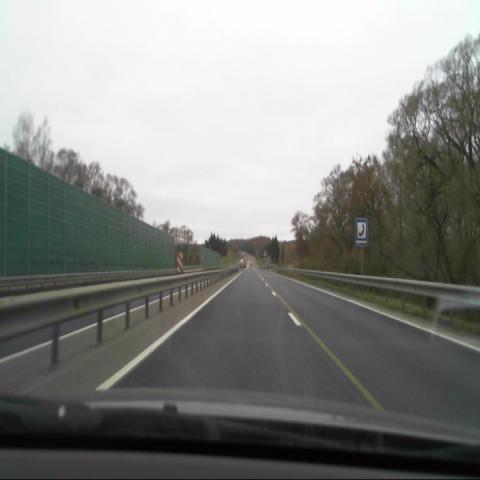7_6: (356, 217, 368, 246)
